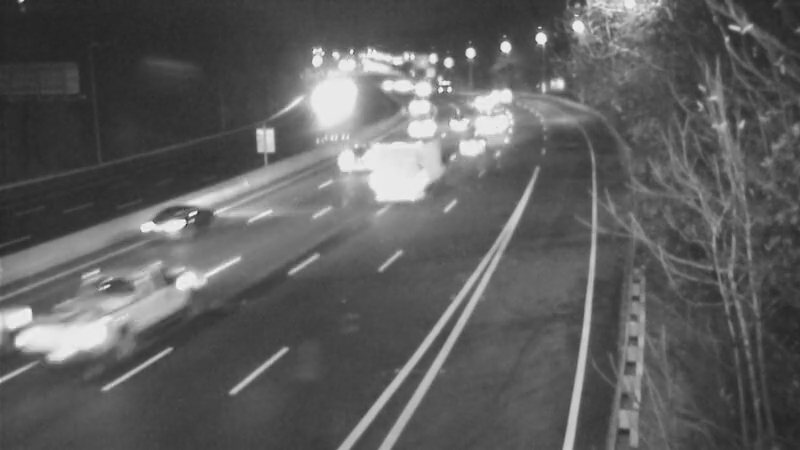vehicle: (16, 280, 126, 390), (1, 261, 89, 371), (308, 114, 388, 194), (366, 136, 446, 216), (123, 186, 203, 266), (390, 77, 440, 127), (431, 90, 481, 140), (466, 91, 516, 141), (392, 103, 442, 153), (447, 117, 497, 167)
